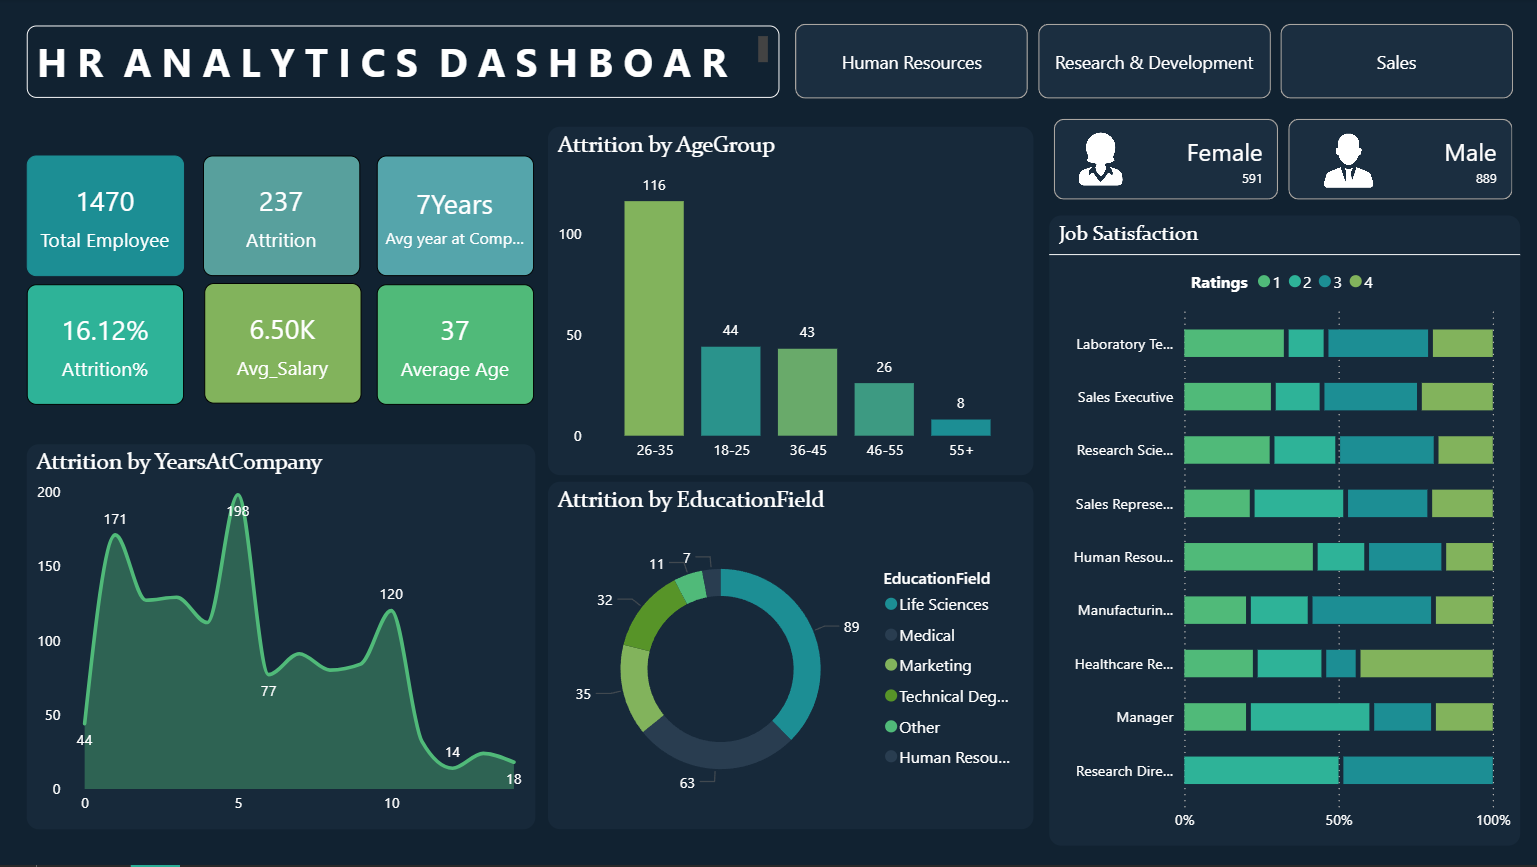

The dashboard page shown, as its layout file describes it:
{"tool":"powerbi","page":{"name":"Page 1","canvas":[1280,720],"ordinal":0},"visuals":[{"type":"advancedSlicerVisual","fields":{"Values":["HR_Analytics.Gender"]},"box":[870,95.2,391,77.9],"z":0},{"type":"card","fields":{"Values":["HR_Analytics.Employee_Attrition"]},"box":[169.5,130.3,130,100],"z":1000},{"type":"card","fields":{"Values":["HR_Analytics.Employee_count"]},"box":[23.8,130.3,130,100],"z":2000},{"type":"card","fields":{"Values":["HR_Analytics.Years_with_Text"]},"box":[314.4,130.8,130,100],"z":3000},{"type":"card","fields":{"Values":["HR_Analytics.Attrition%"]},"box":[23.8,237.1,130,100],"z":4000},{"type":"card","fields":{"Values":["HR_Analytics.Avg_Salary"]},"box":[170.5,236.5,130,100],"z":5000},{"type":"card","fields":{"Values":["HR_Analytics.Avg_Age"]},"box":[314.4,237.1,130,100],"z":6000},{"type":"areaChart","title":"Attrition by YearsAtCompany","fields":{"Y":["CountNonNull(HR_Analytics.Attrition)"],"Category":["HR_Analytics.YearsAtCompany"]},"box":[24,370.3,421.9,318.8],"z":7000},{"type":"donutChart","title":"Attrition by EducationField","fields":{"Y":["HR_Analytics.Employee_Attrition"],"Category":["HR_Analytics.EducationField"]},"box":[456,401,402.1,288.1],"z":8000},{"type":"columnChart","title":"Attrition by AgeGroup","fields":{"Category":["HR_Analytics.AgeGroup"],"Y":["HR_Analytics.Employee_Attrition"]},"box":[456,106.7,402.1,289.1],"z":9000},{"type":"hundredPercentStackedBarChart","title":"Job Satisfaction","fields":{"Y":["HR_Analytics.Employee_Attrition"],"Series":["HR_Analytics.JobSatisfaction"],"Category":["HR_Analytics.JobRole"]},"box":[871.5,180.3,390.7,522.3],"z":10000},{"type":"image","box":[890.6,106.6,48,54],"z":11000},{"type":"image","box":[1093.1,107.8,53.3,54.5],"z":12000},{"type":"advancedSlicerVisual","fields":{"Values":["HR_Analytics.Department"]},"box":[656,16.6,606.2,72.5],"z":12001},{"type":"textbox","box":[23.8,22.8,623.8,60.1],"z":12002}]}

Visuals, with their boxes in screenshot pixels (x1, y1, x2, y2), scaled from the page's 1280x720 canvas onto the 1537x867 screenshot:
advancedSlicerVisual - HR_Analytics.Gender: 1045 115 1514 208
card - HR_Analytics.Employee_Attrition: 204 157 360 277
card - HR_Analytics.Employee_count: 29 157 185 277
card - HR_Analytics.Years_with_Text: 378 158 534 278
card - HR_Analytics.Attrition%: 29 286 185 406
card - HR_Analytics.Avg_Salary: 205 285 361 405
card - HR_Analytics.Avg_Age: 378 286 534 406
"Attrition by YearsAtCompany" areaChart: 29 446 535 830
"Attrition by EducationField" donutChart: 548 483 1030 830
"Attrition by AgeGroup" columnChart: 548 128 1030 477
"Job Satisfaction" hundredPercentStackedBarChart: 1046 217 1516 846
image: 1069 128 1127 193
image: 1313 130 1377 195
advancedSlicerVisual - HR_Analytics.Department: 788 20 1516 107
textbox: 29 27 778 100
